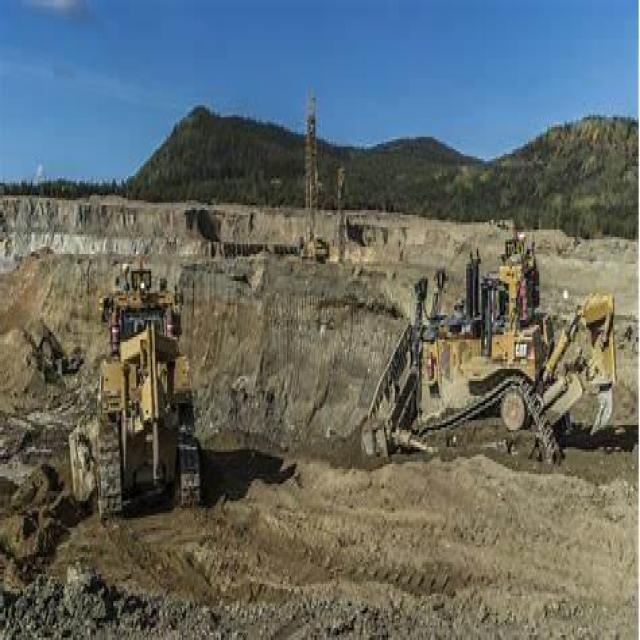Bulldozer: (349, 230, 639, 481), (52, 310, 209, 508)
